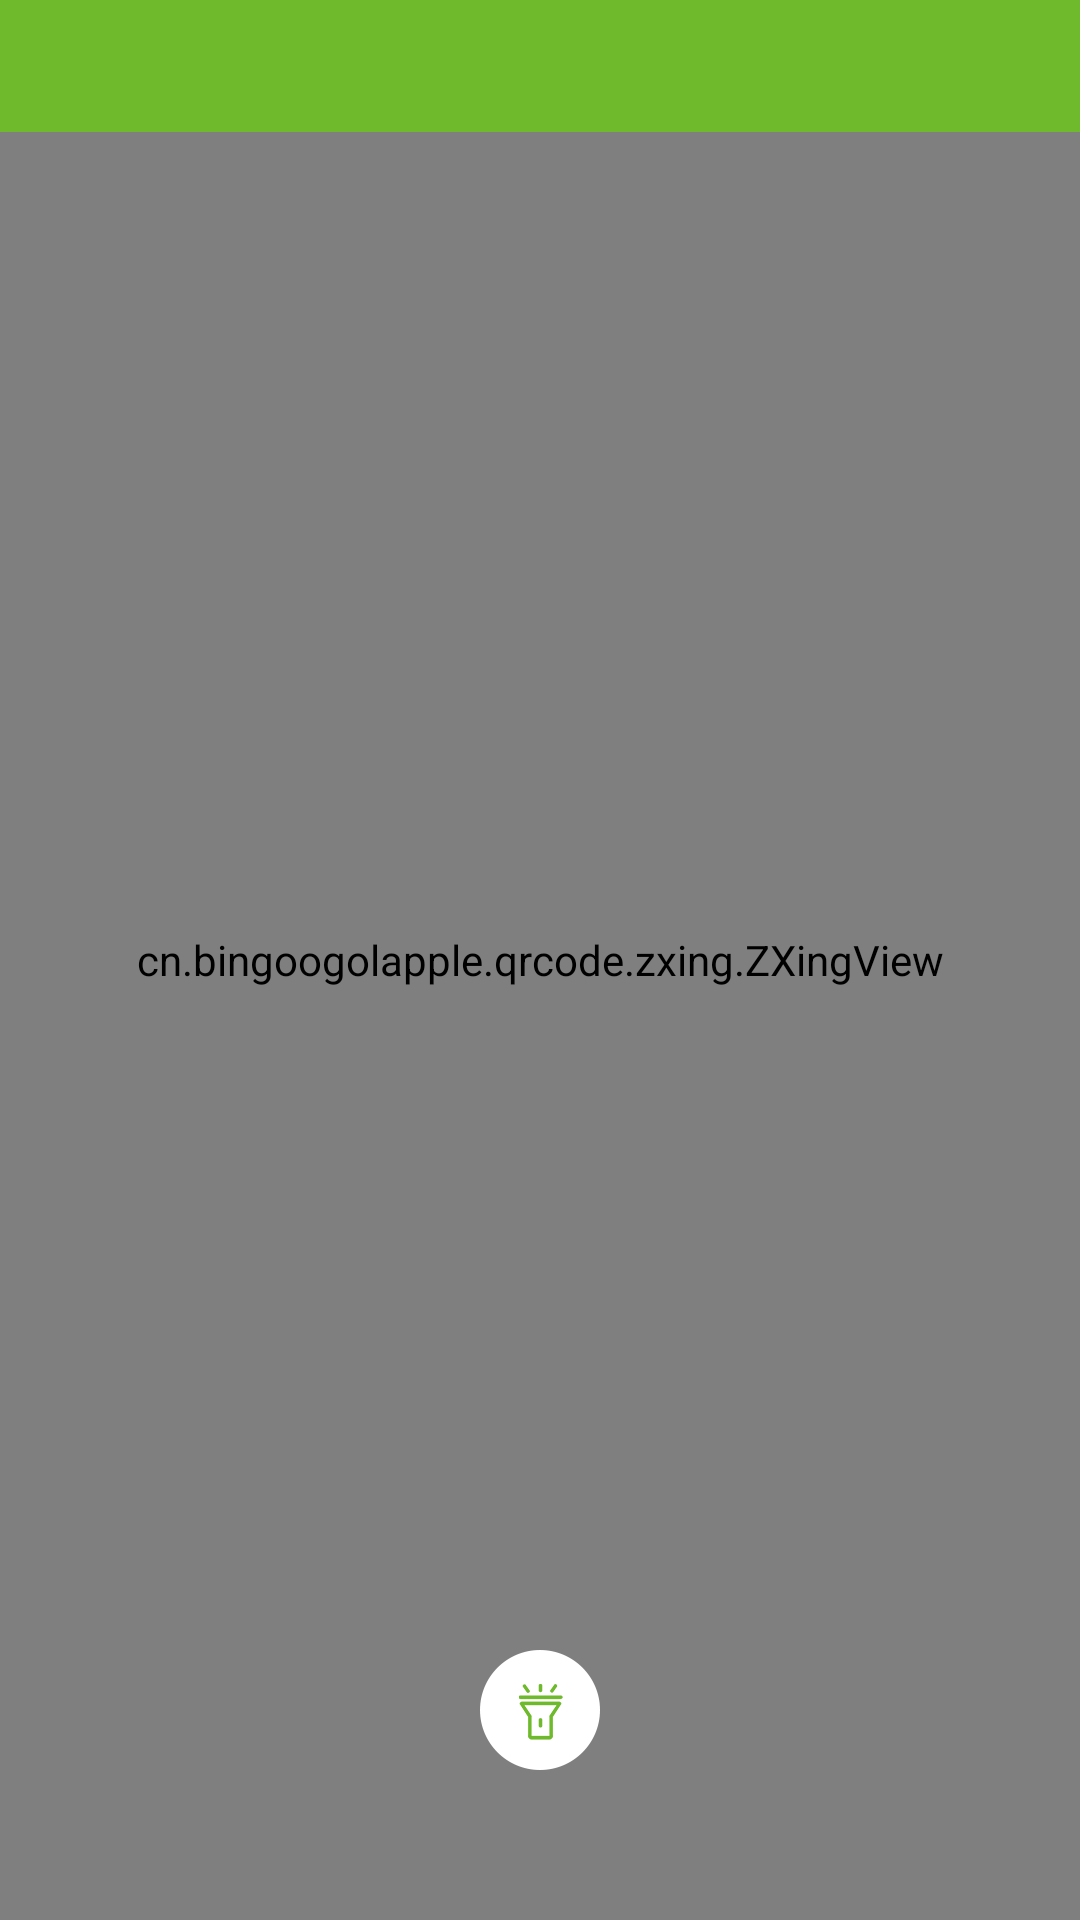

Screen size 1080 x 1920. Icon name, then its center in pixels as [x,y]:
flashlight: [540,1710]
